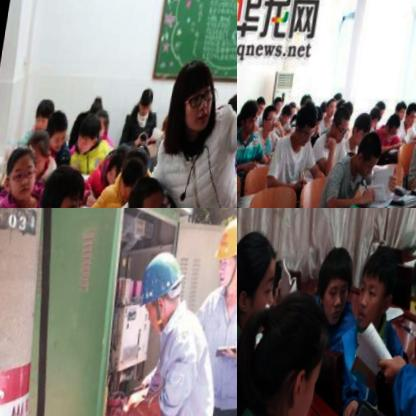head: (241, 284, 336, 416), (237, 231, 285, 339), (167, 55, 222, 141), (352, 242, 402, 332), (309, 244, 355, 330), (114, 143, 157, 208), (0, 142, 44, 204), (37, 162, 91, 208), (121, 175, 175, 208), (352, 131, 386, 181), (22, 125, 55, 176), (292, 104, 321, 149), (42, 111, 71, 154), (74, 114, 102, 156), (32, 93, 59, 136), (105, 143, 130, 189), (237, 99, 260, 138), (350, 114, 374, 150), (329, 106, 350, 146), (379, 114, 402, 148), (89, 108, 111, 142), (259, 105, 281, 138), (308, 109, 325, 142), (87, 96, 105, 122), (139, 87, 156, 113), (402, 101, 416, 131), (277, 102, 293, 128), (252, 94, 267, 121), (371, 100, 388, 123), (324, 95, 338, 121), (366, 110, 381, 134), (393, 101, 409, 123), (271, 95, 284, 115), (286, 98, 297, 118)
helmet: (131, 243, 194, 337), (209, 213, 237, 302)
